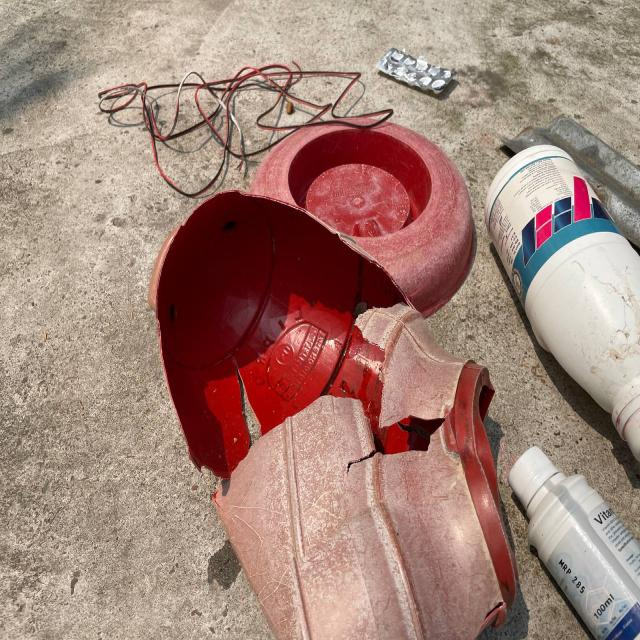Cable: (82, 47, 378, 168)
Medical Waste: (382, 39, 462, 105)
Metal: (571, 97, 640, 218)
Plastics: (129, 157, 640, 639)
